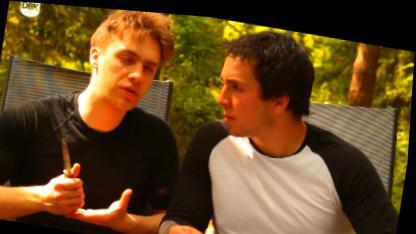knife: (40, 126, 98, 201)
